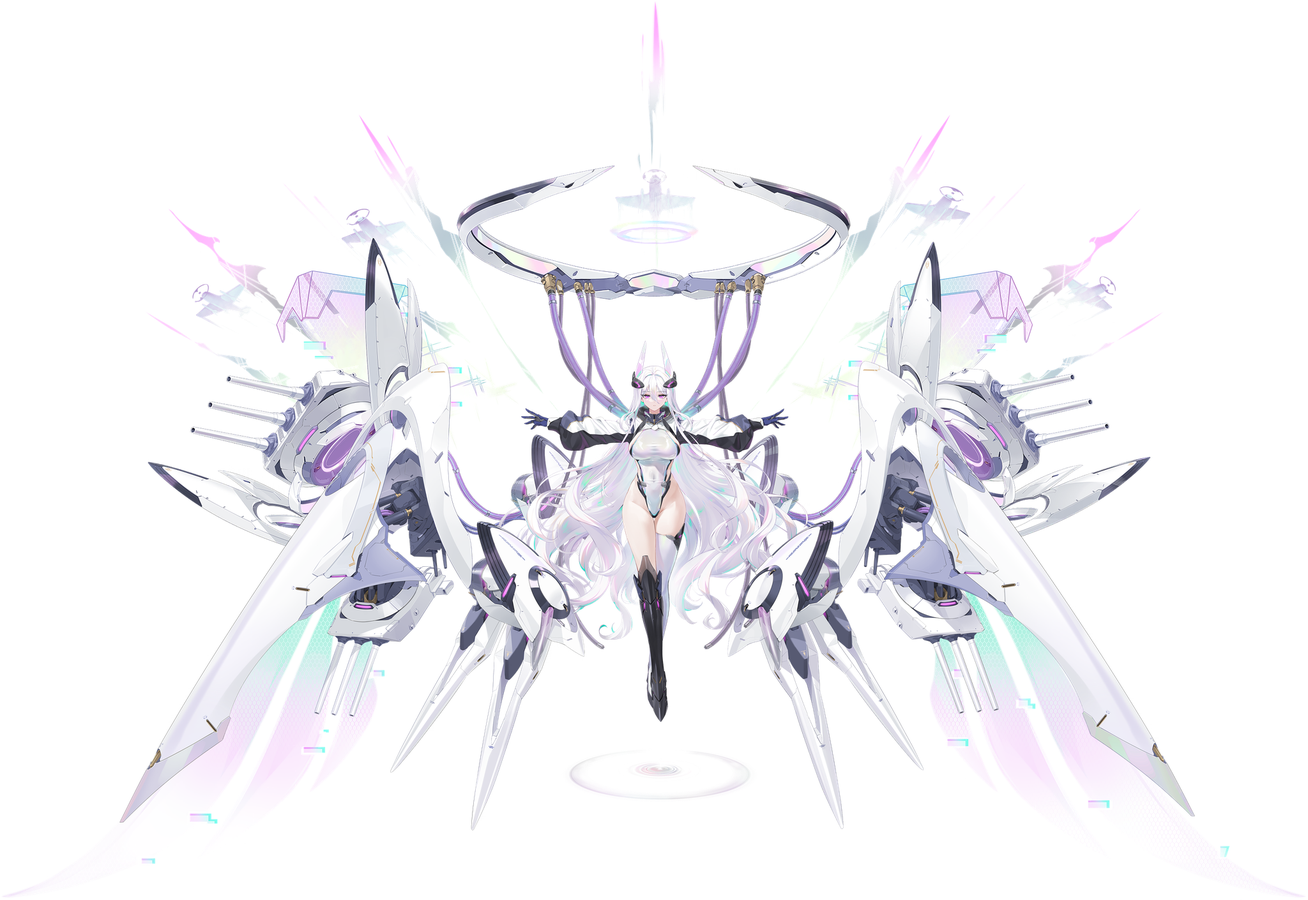person: (563, 331, 764, 758)
